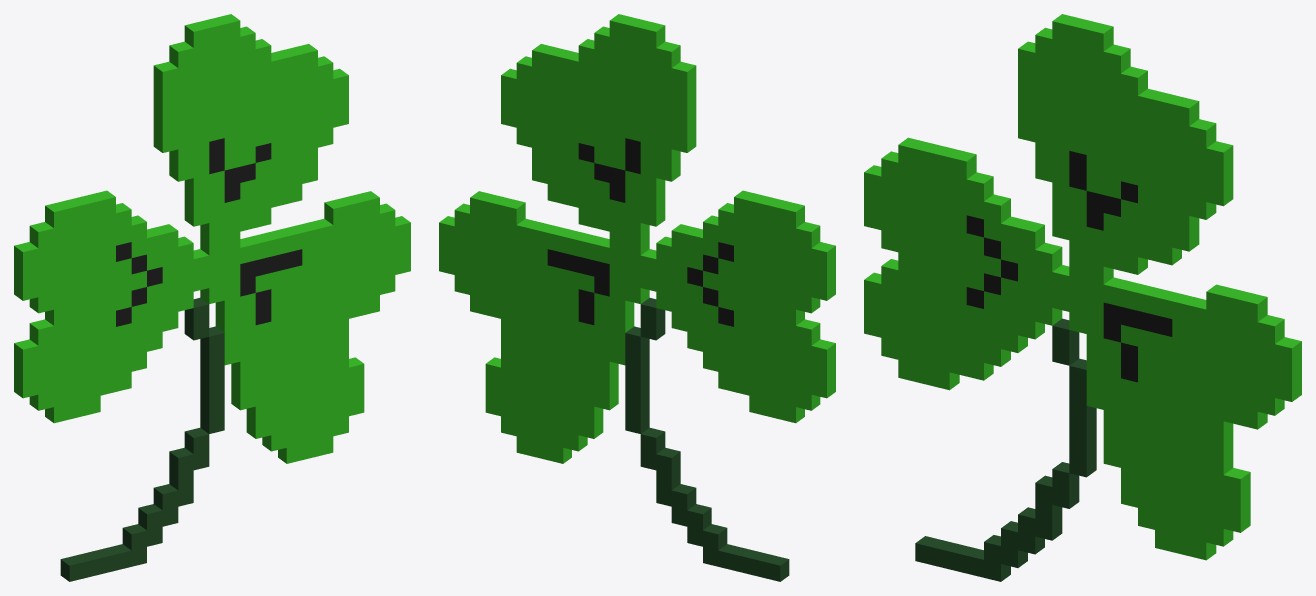
Rendered from trebol.obj.
3 views of the same model, side by side, from view 1: azimuth 30°, elevation 25°; view 2: azimuth 150°, elevation 25°; view 3: azimuth 330°, elevation 25° (orthographic). The views are drawn at different scales.
Bounding box in the file's own units: 2.5 × 3.2 × 0.1.
